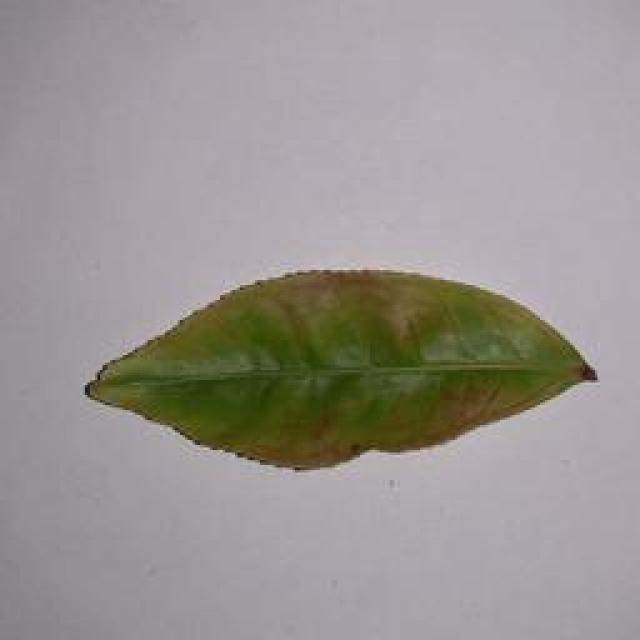Red Leaf Spot: (60, 262, 636, 474)
